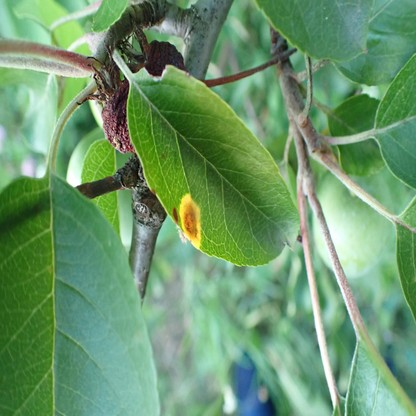rust: (180, 193, 201, 246), (173, 207, 179, 223)
